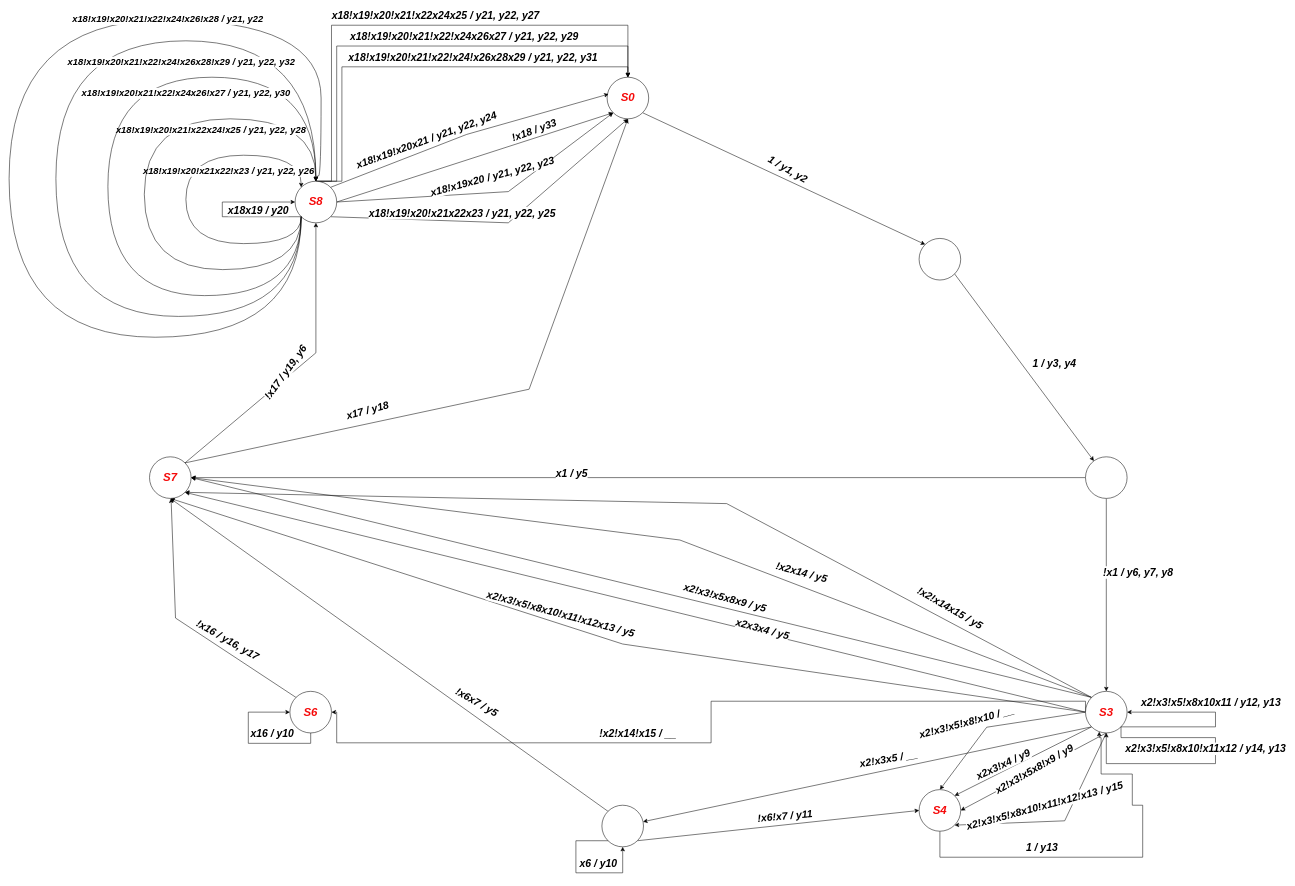
Image size: 1295x886. Some labels were removed from this diagram. Each missing label, with the box of its shape:
S1: (919, 238, 961, 280)
S2: (1085, 456, 1127, 498)
S5: (601, 805, 644, 847)
